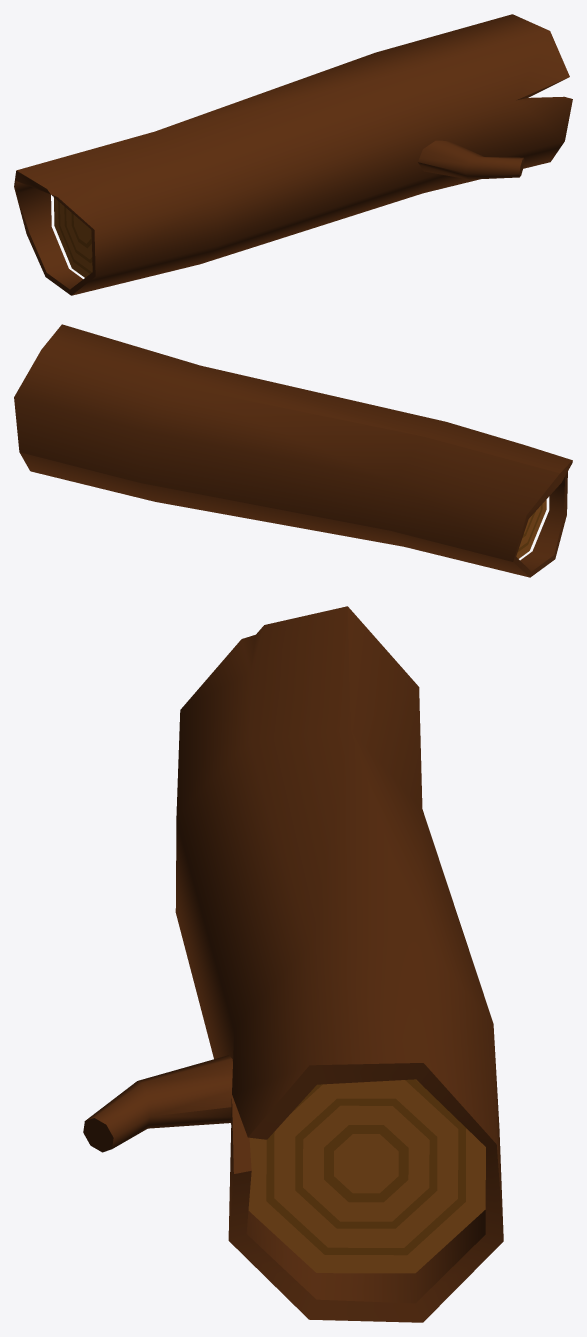
The model's file is fallenlog2.glb.
The picture shows the model from 3 angles, top to bottom: view 1: azimuth 30°, elevation 25°; view 2: azimuth 150°, elevation 25°; view 3: azimuth 270°, elevation 25°; orthographic projection. The views are drawn at different scales.
Parts seen in each view (by area): view 1: log1; view 2: log1; view 3: log1.
Boxes of the visible parts, bbox=[...] form: log1: bbox=[14, 14, 572, 295]; log1: bbox=[14, 324, 572, 577]; log1: bbox=[83, 606, 503, 1322].
Bounding box in the file's own units: 2.59 × 0.6243 × 0.9215.
